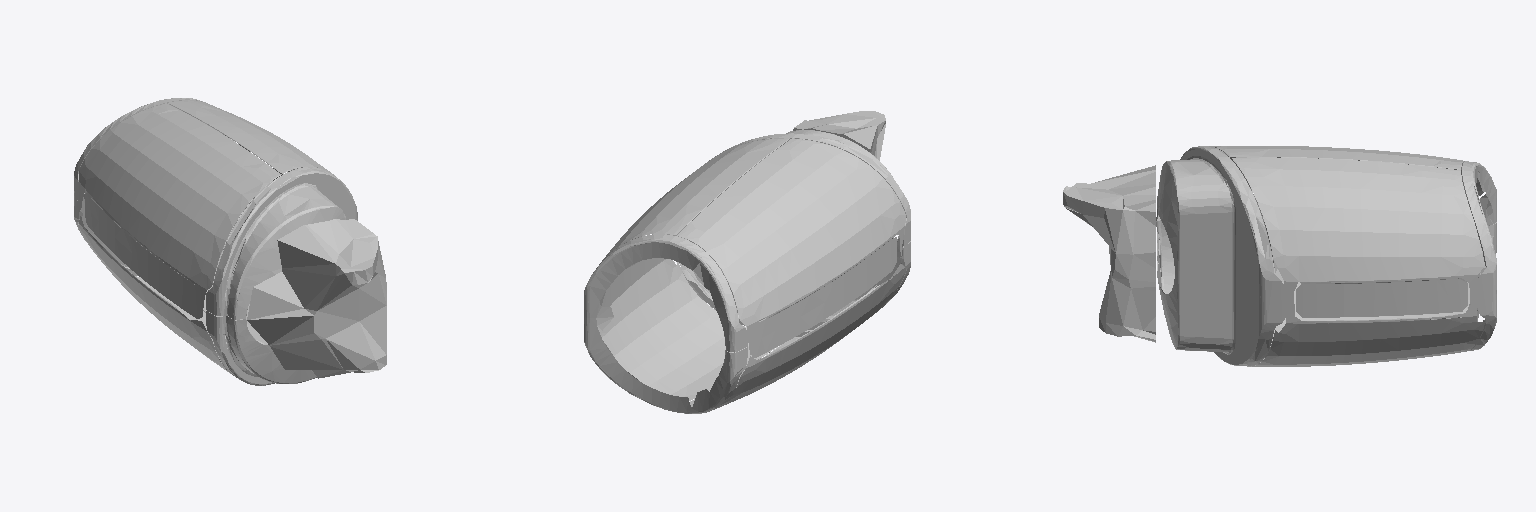
The model's file is sim_ecub_l_forearm.obj.
3 renders of one model, left to right at view 1: azimuth 30°, elevation 25°; view 2: azimuth 150°, elevation 25°; view 3: azimuth 270°, elevation 25°, orthographic.
Bounding box in the file's own units: 106 × 106 × 209.